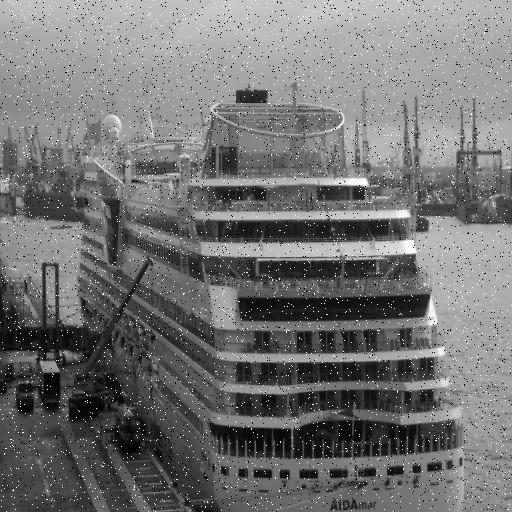cruises: (78, 88, 469, 512)
